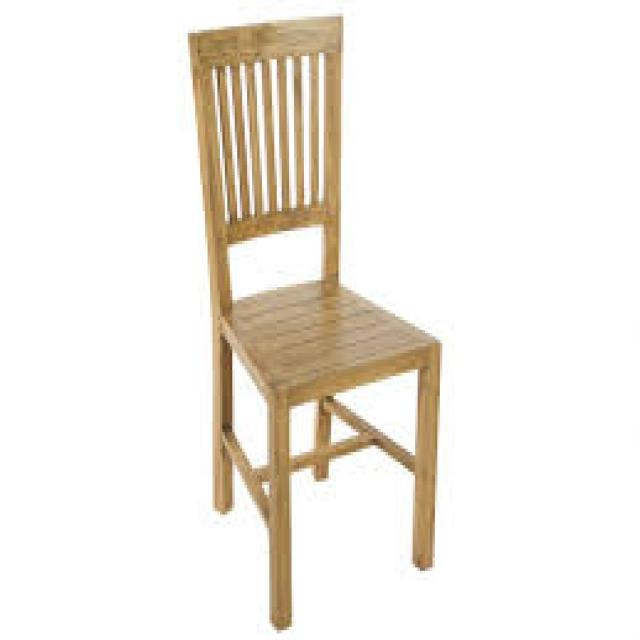bottle: (183, 11, 446, 634)
